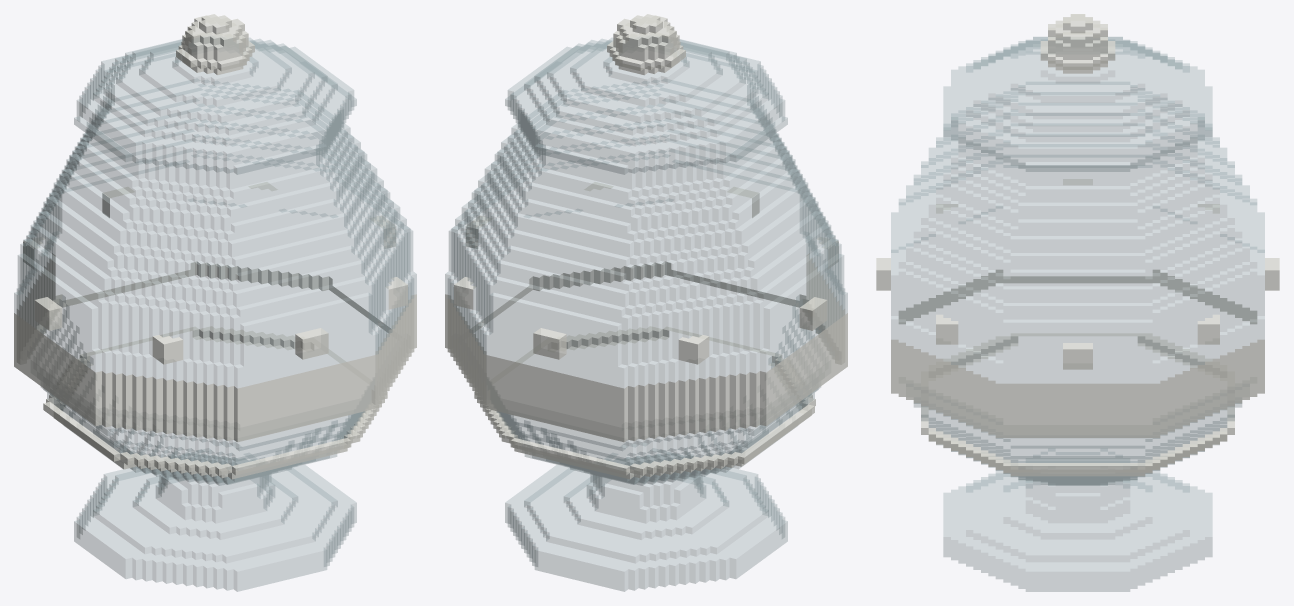
The model's file is crystal_urn.glb.
3 views of the same model, side by side, from view 1: azimuth 30°, elevation 25°; view 2: azimuth 150°, elevation 25°; view 3: azimuth 270°, elevation 25° (orthographic).
Visible parts, largest first — view 1: crystal_urn:compound; view 2: crystal_urn:compound; view 3: crystal_urn:compound.
Boxes of the visible parts, x1,y1,x2,y2 form: crystal_urn:compound: (14, 14, 416, 591); crystal_urn:compound: (445, 14, 847, 591); crystal_urn:compound: (876, 14, 1279, 591).
Bounding box in the file's own units: 0.216 × 0.304 × 0.216.
